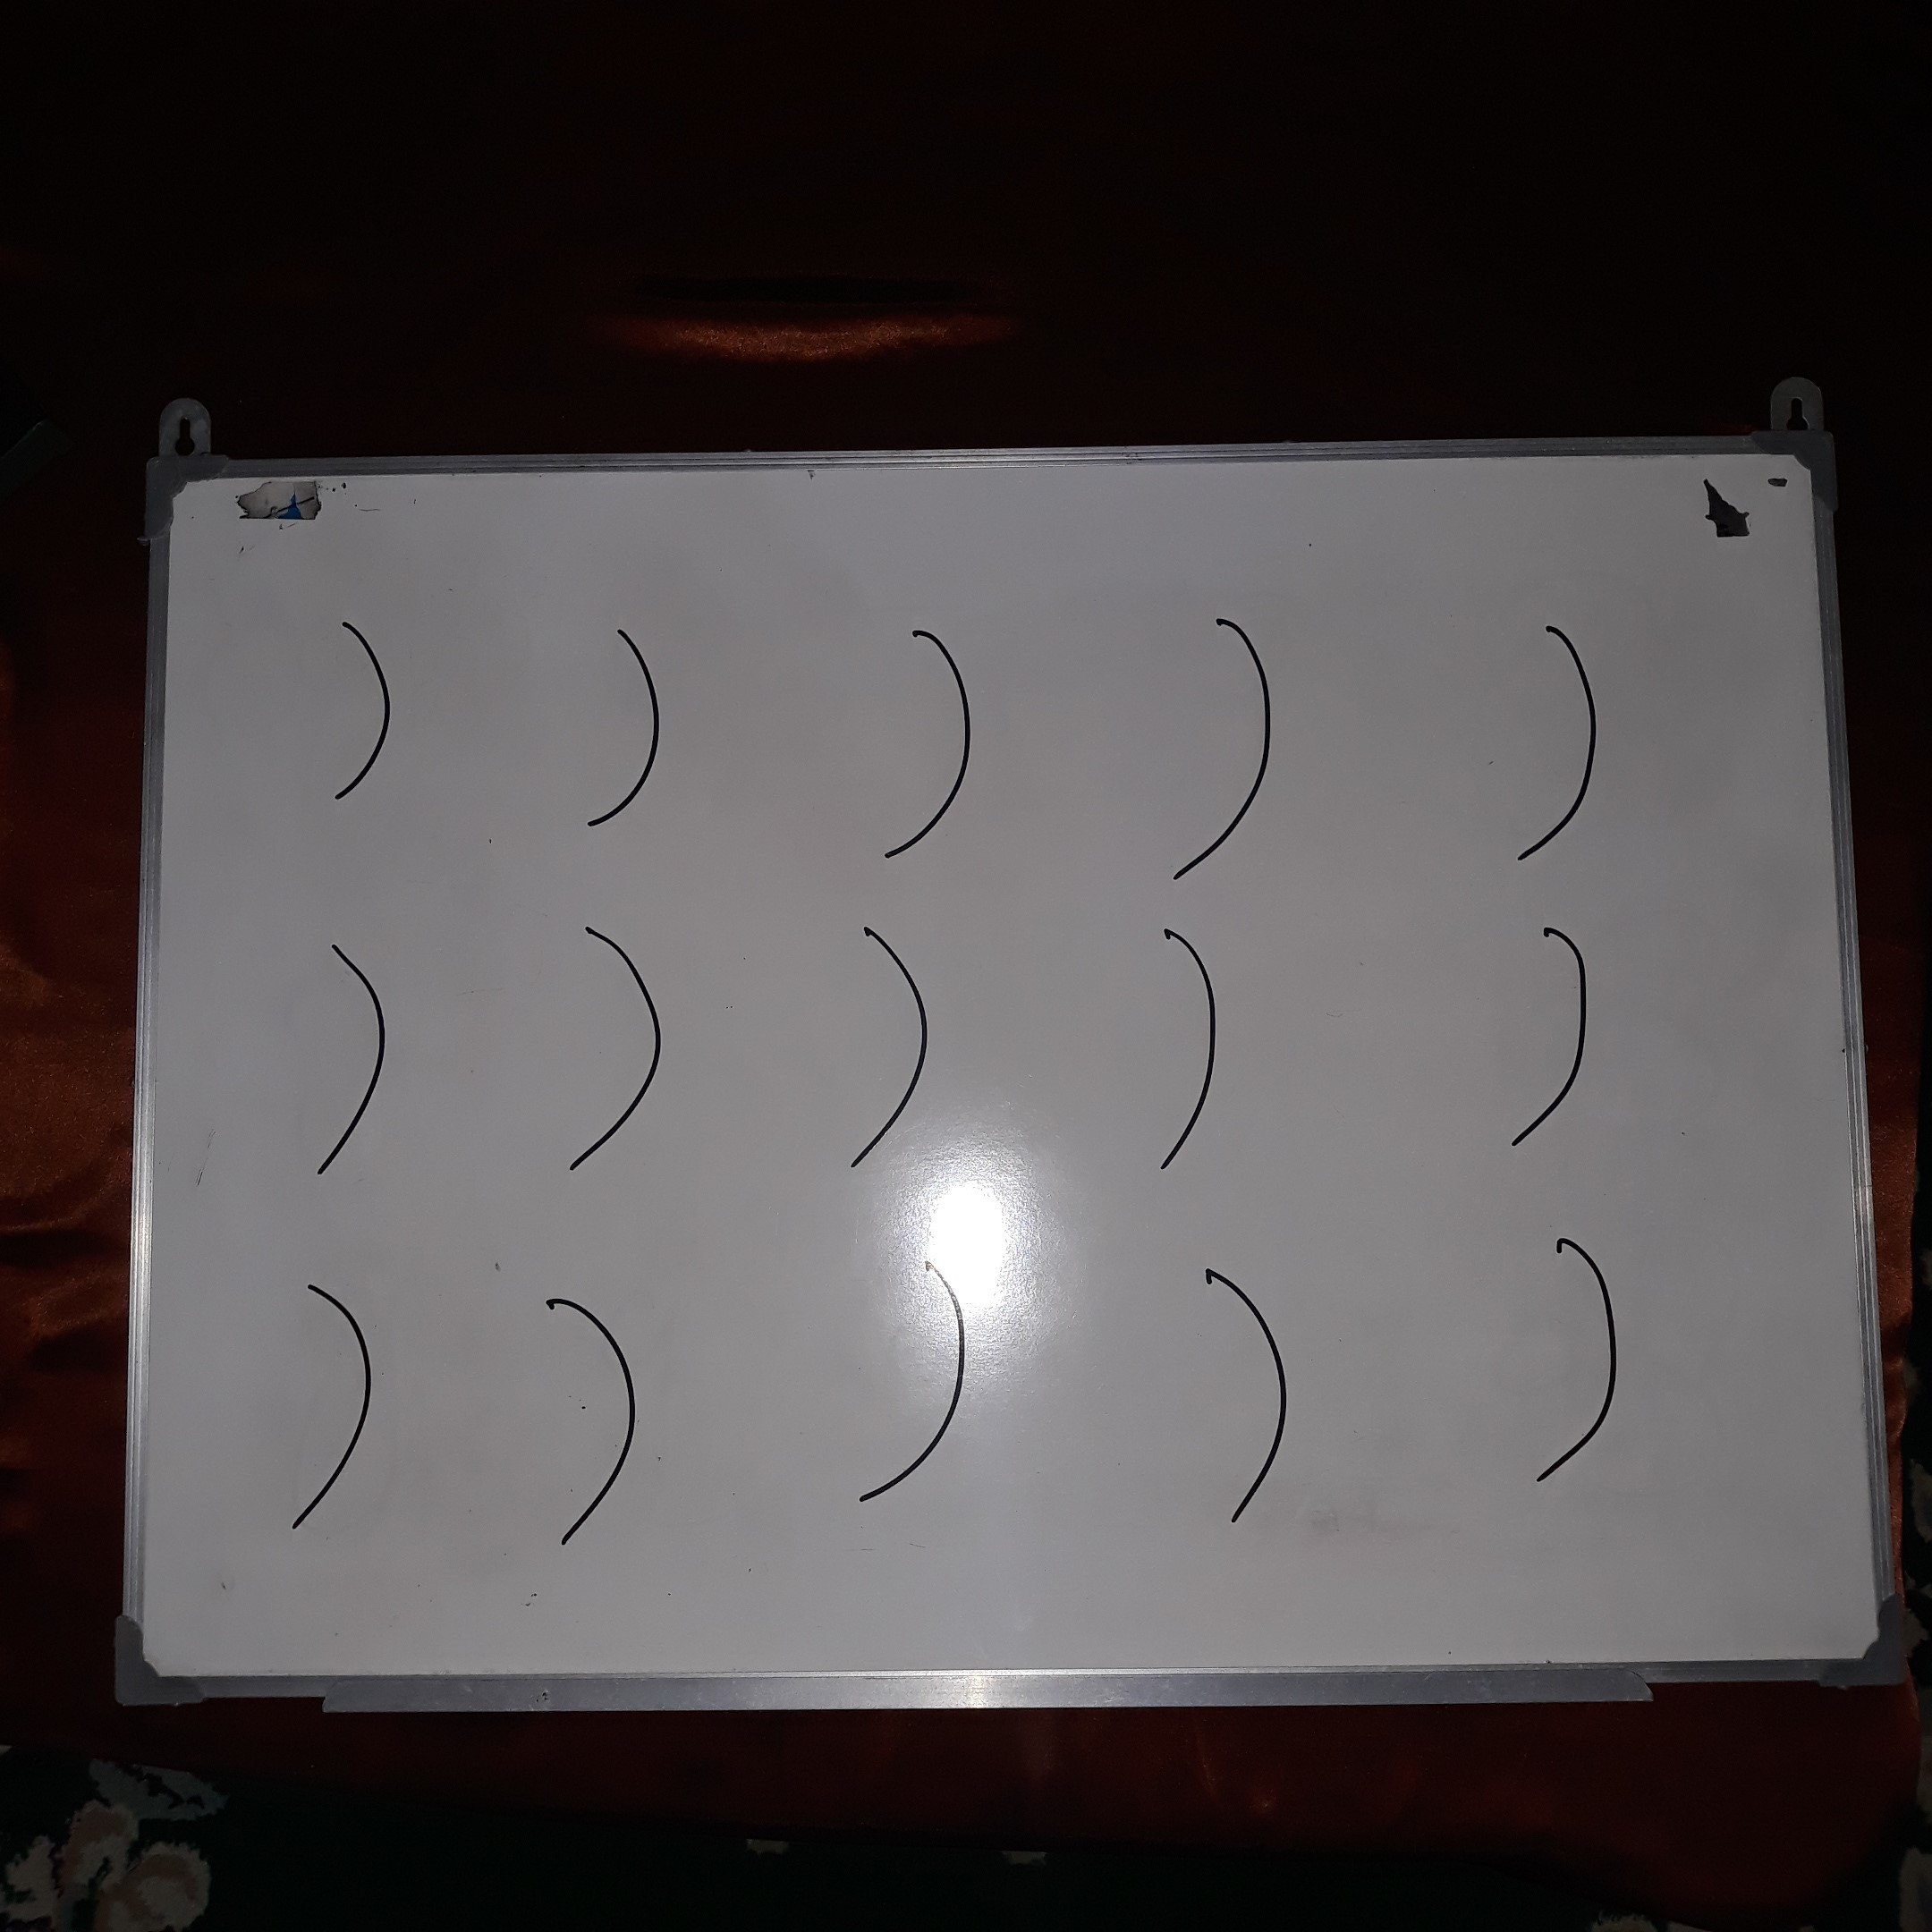closebracket: (1142, 597, 1301, 899), (513, 1283, 681, 1563), (1174, 1253, 1335, 1546), (548, 909, 712, 1188), (1126, 918, 1286, 1197), (824, 911, 980, 1186), (860, 614, 1018, 882), (1487, 605, 1648, 868), (1504, 1224, 1651, 1504), (268, 1260, 402, 1559), (548, 608, 712, 847), (1491, 914, 1637, 1162), (301, 928, 438, 1184), (854, 1238, 975, 1518), (301, 603, 445, 823)
